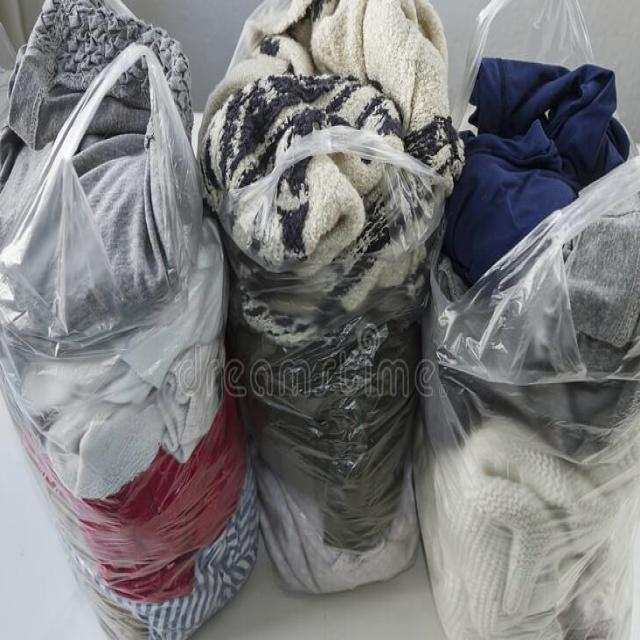clothes: (252, 60, 433, 147)
